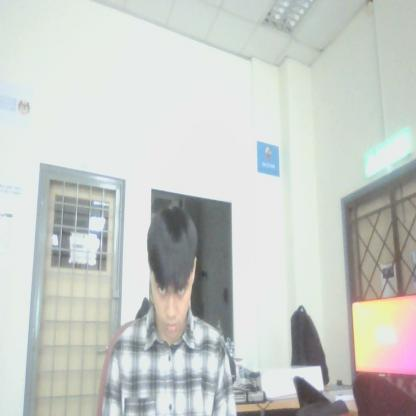Open-Eyes: (154, 276, 189, 304)
